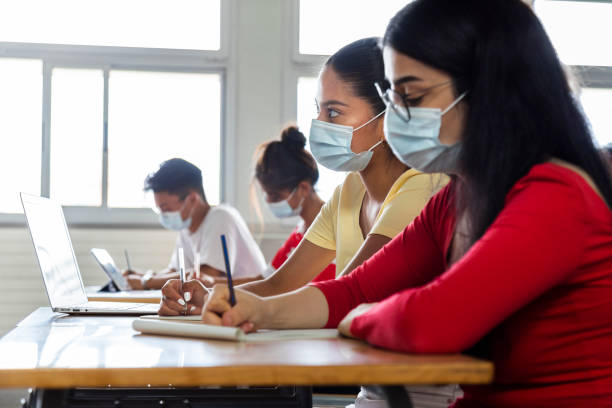with mask: (386, 22, 483, 191), (300, 48, 387, 176), (243, 141, 316, 220), (141, 161, 209, 227)
